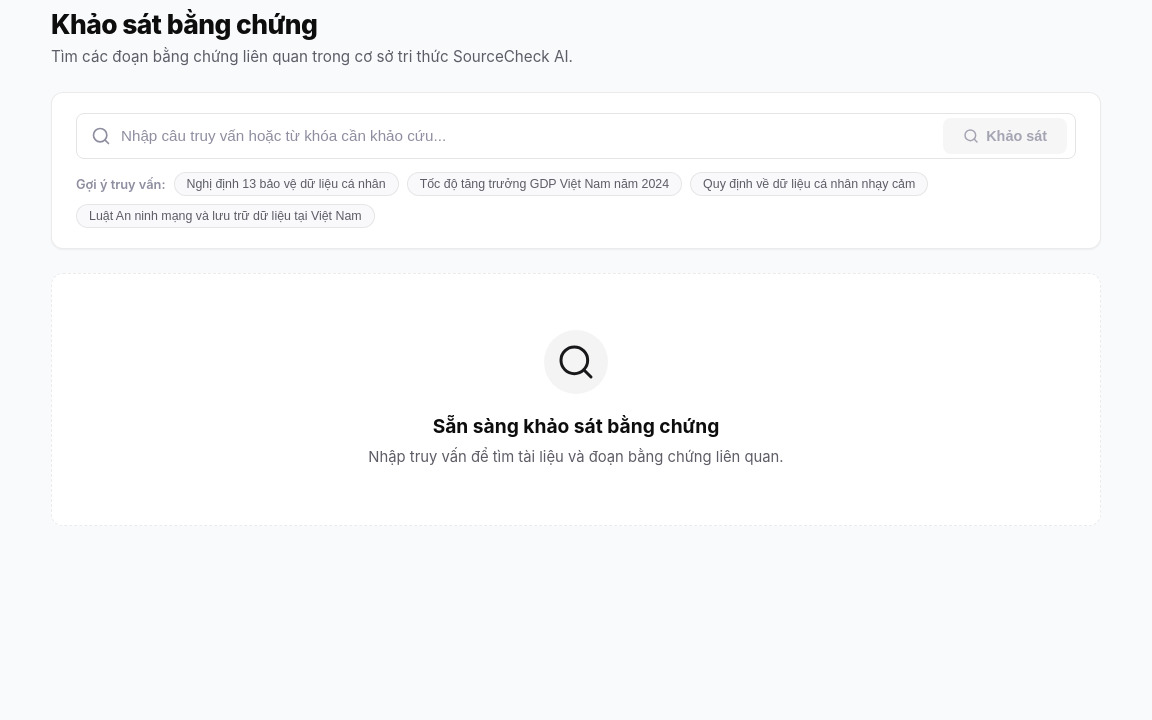
Search & Retrieval Explorer Feature (FE-04.6B) › 3. Pipeline Inspection & Retrieval Details Drawer › opens RetrievalDetailsDrawer and displays step-by-step pipeline and scores
Type "Nghị định 13" into the field with test id "search-query-input" at coordinates (532, 136), box [121,120,943,152]
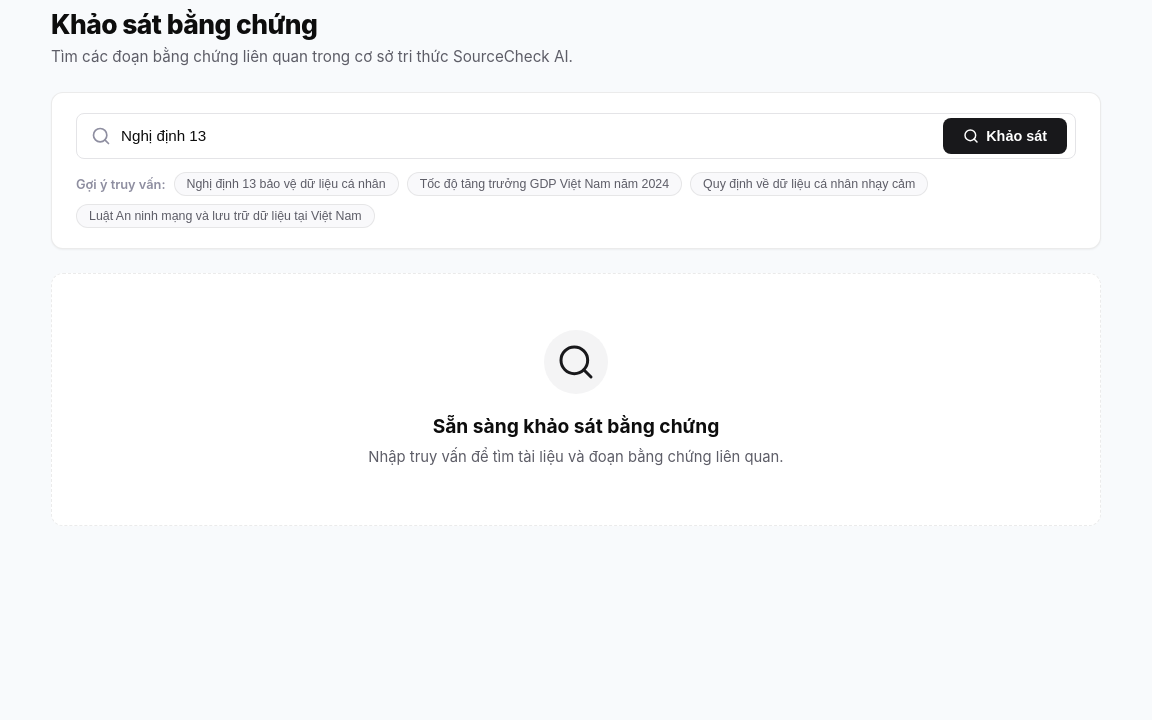
Click the button with test id "btn-execute-search" at coordinates (1005, 136), box [943,118,1067,154]
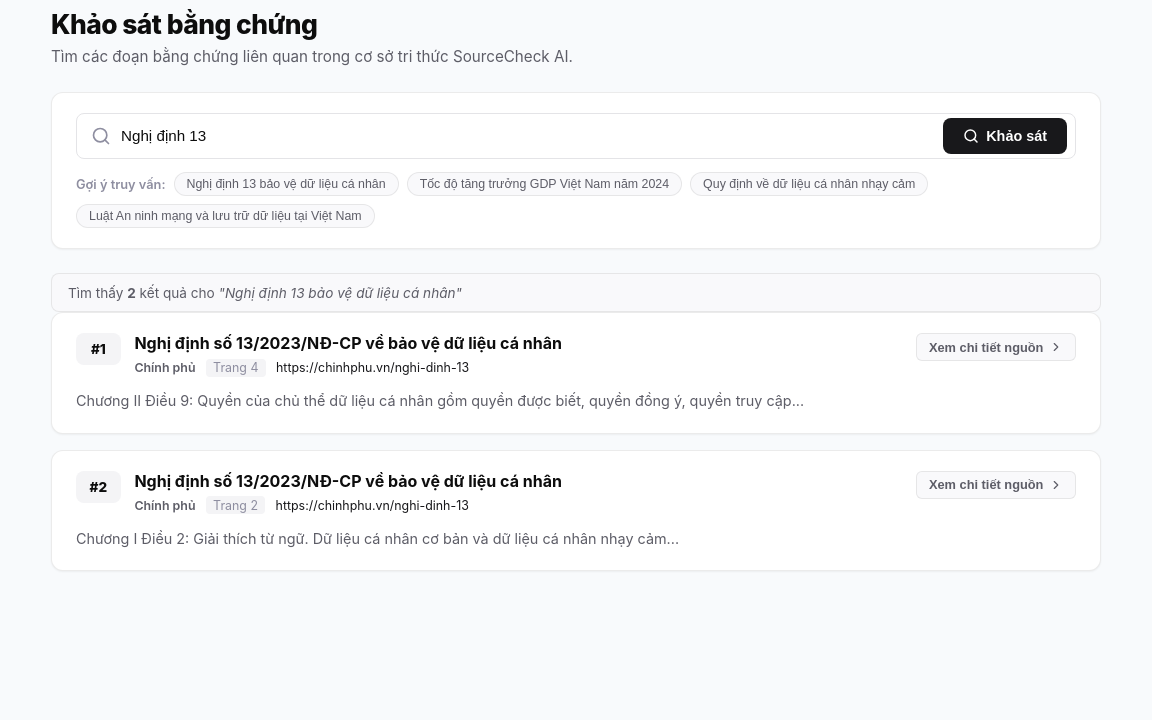
Now the element with test id "search-results-section" is shown, box [51,273,1101,571]
Note: Click "Xem pipeline" on Hit #1
Click the button with test id "btn-view-details-0" at coordinates (996, 347), box [916,333,1076,361]
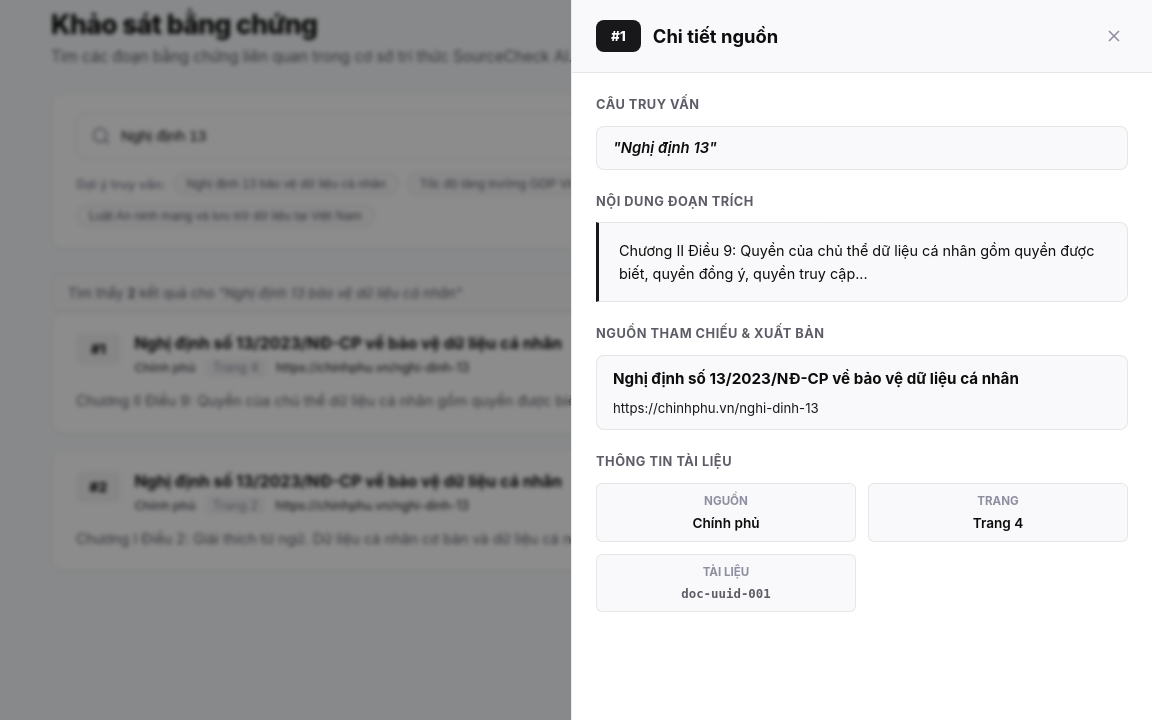
Now the element with test id "retrieval-details-drawer" is shown, box [571,0,1151,719]
Now the text with test id "drawer-hit-rank" reads "#1", box [596,20,641,52]
Now the text with test id "drawer-query-box" shows "Nghị định 13", box [621,139,709,157]
Note: Close Drawer via Close button
Click the button with test id "btn-close-retrieval-drawer" at coordinates (1114, 36), box [1100,22,1128,50]
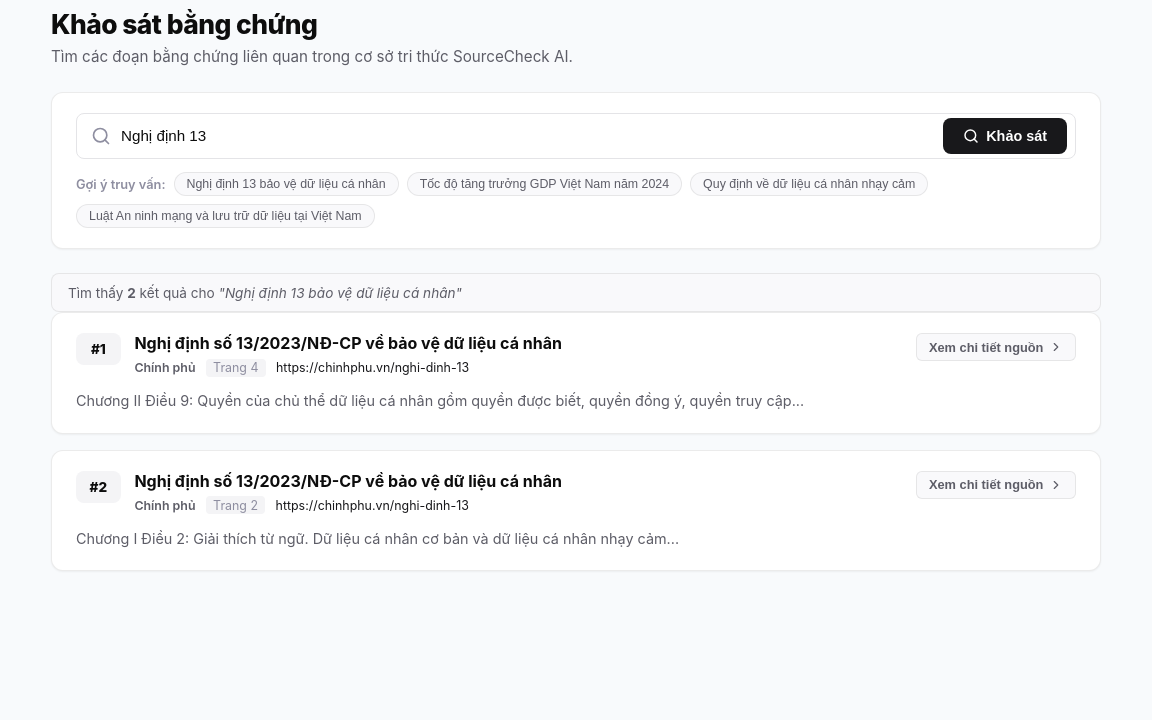
Now the element with test id "retrieval-details-drawer" is gone
